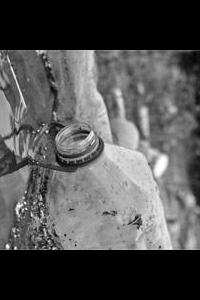bottle: (9, 118, 192, 250)
